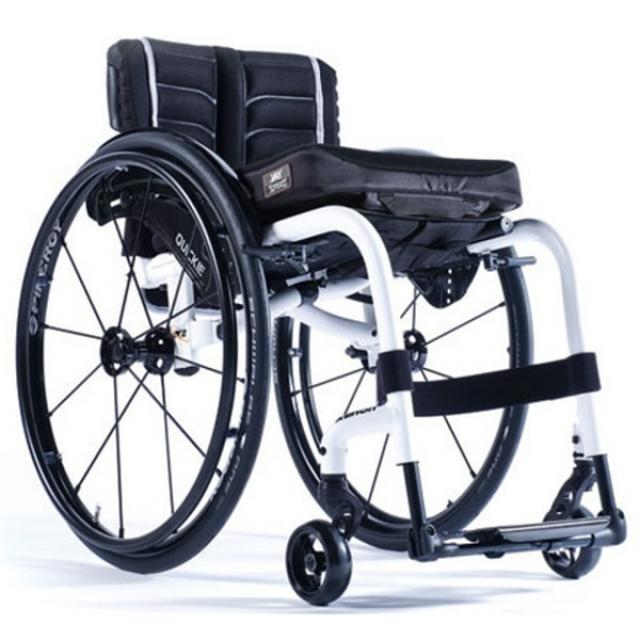wheelchair: (16, 26, 640, 612)
